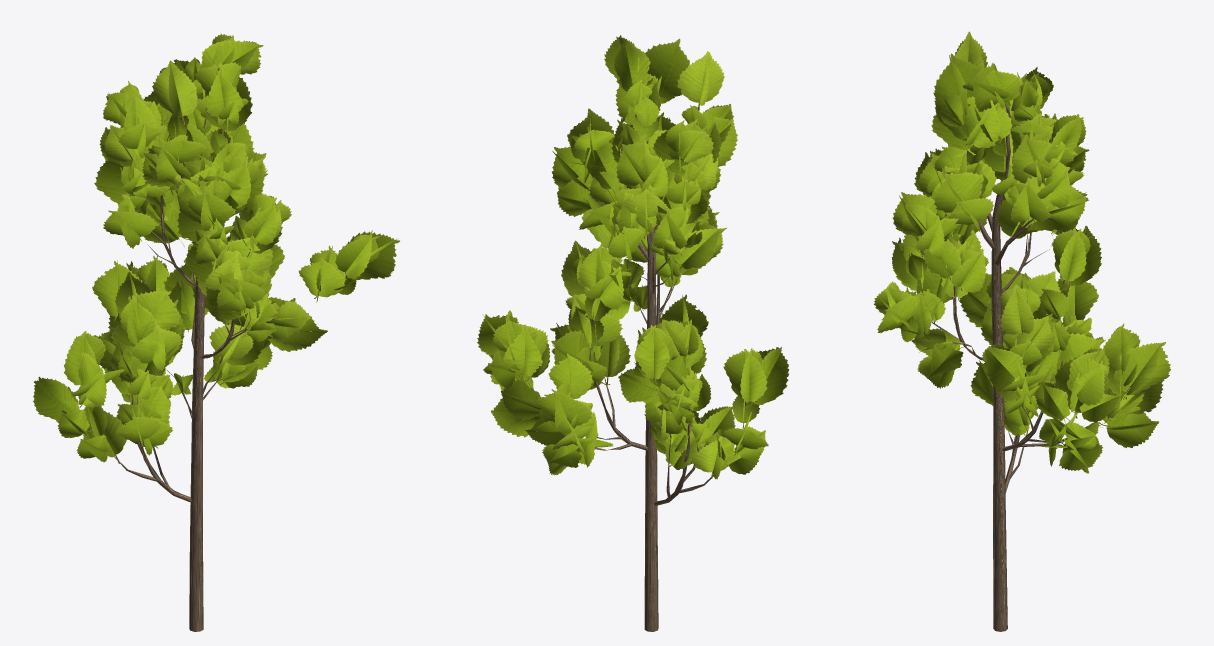
The model's file is tree1_lod1.glb.
3 renders of one model, left to right at view 1: azimuth 30°, elevation 25°; view 2: azimuth 150°, elevation 25°; view 3: azimuth 270°, elevation 25°, orthographic. The views are drawn at different scales.
Parts seen in each view (by area): view 1: leaves, trunk; view 2: leaves, trunk; view 3: leaves, trunk.
Boxes of the visible parts, box(x1,y1,x2,y2) form: leaves: box(33, 33, 399, 463); trunk: box(108, 118, 276, 631); leaves: box(477, 35, 789, 479); trunk: box(553, 114, 713, 631); leaves: box(874, 31, 1170, 473); trunk: box(921, 103, 1100, 631).
Bounding box in the file's own units: 0.5559 × 1 × 0.5305.
2 materials, 2 textured.
